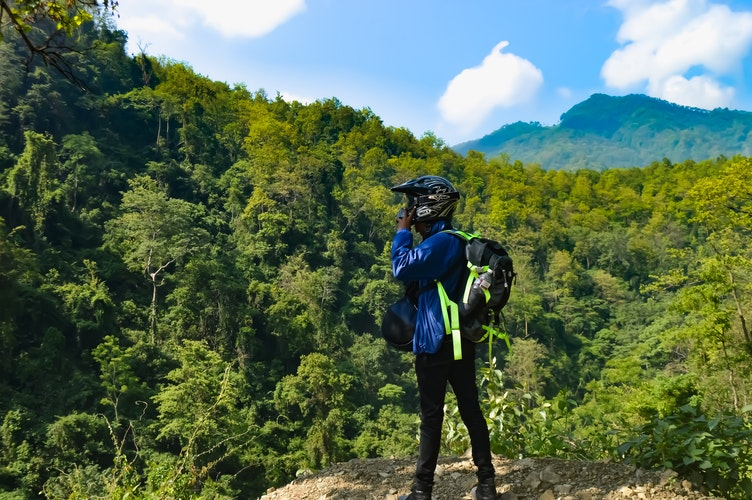helmet: (397, 170, 460, 235)
